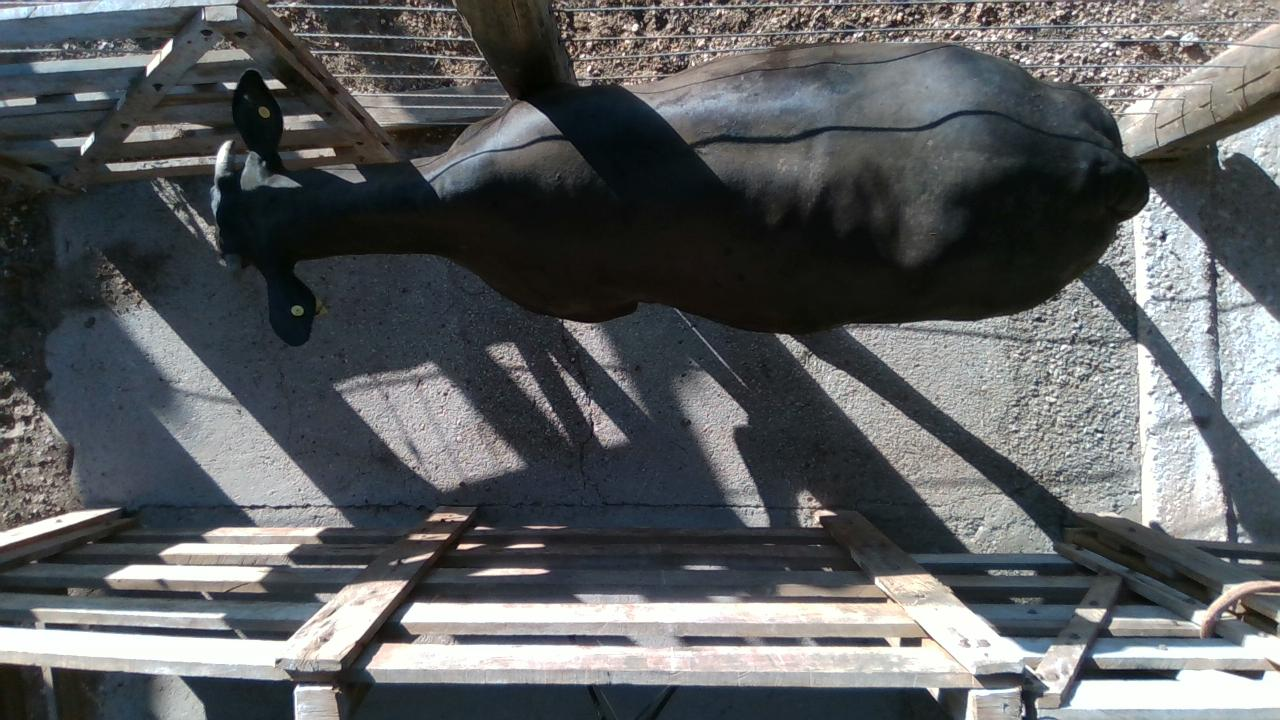cattle: (209, 6, 1150, 345)
